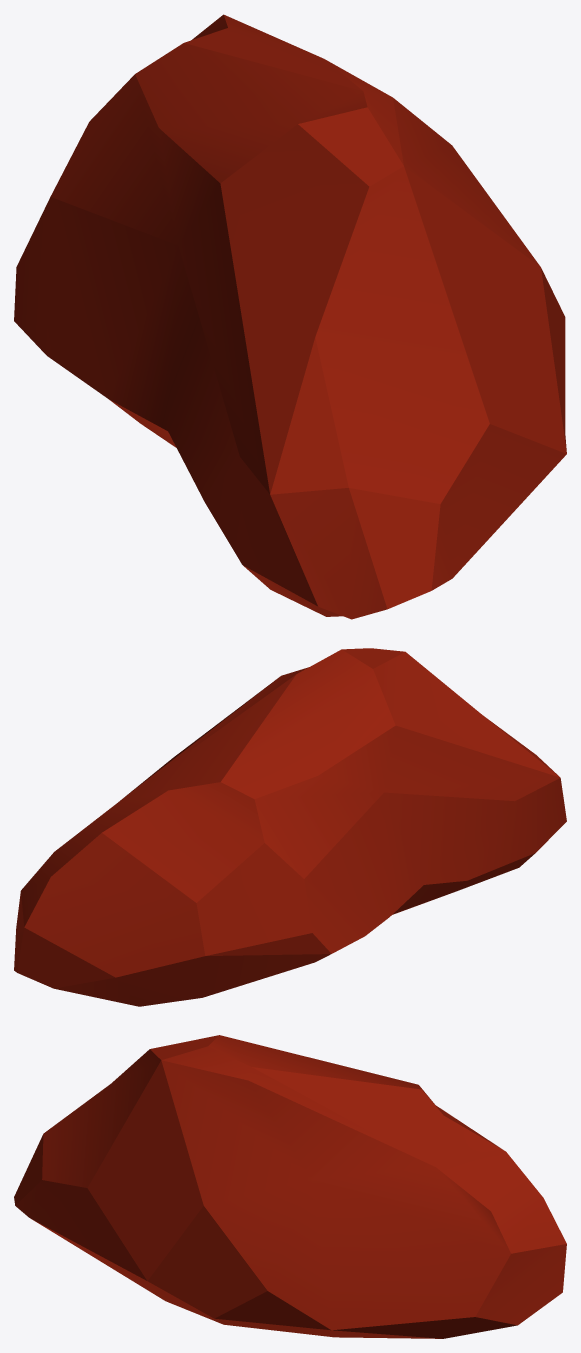
File: SM_Large_Rock_02.fbx
The picture shows the model from 3 angles, top to bottom: view 1: azimuth 30°, elevation 25°; view 2: azimuth 150°, elevation 25°; view 3: azimuth 270°, elevation 25°; orthographic projection. The views are drawn at different scales.
Visible parts, largest first — view 1: SM_Large_Rock_02; view 2: SM_Large_Rock_02; view 3: SM_Large_Rock_02.
Boxes of the visible parts, <box> form: SM_Large_Rock_02: <box>14,14,566,619</box>; SM_Large_Rock_02: <box>14,648,566,1006</box>; SM_Large_Rock_02: <box>14,1035,566,1338</box>.
Bounding box in the file's own units: 175 × 144 × 292.
